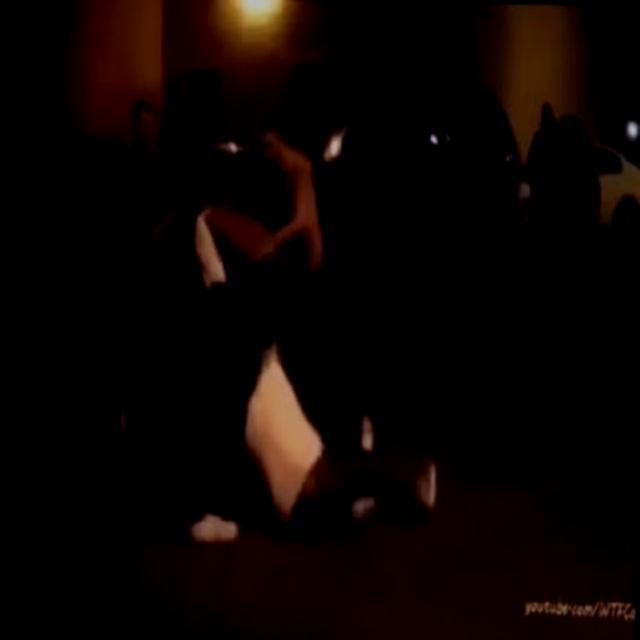fight: (179, 183, 438, 546)
